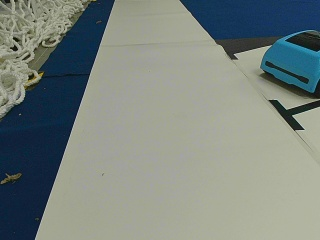car: (260, 28, 318, 95)
